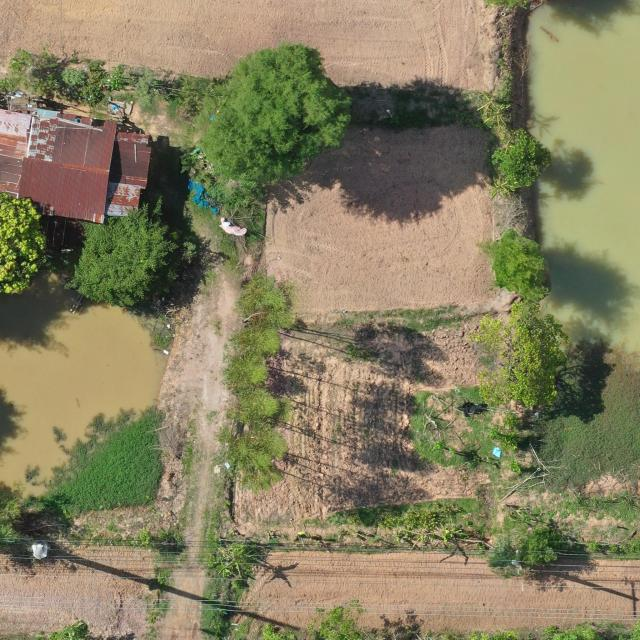Tree: (202, 43, 352, 197), (72, 194, 180, 308), (466, 301, 570, 408), (215, 428, 291, 494), (0, 192, 46, 296), (490, 226, 550, 302), (485, 522, 562, 576), (491, 128, 552, 189), (232, 273, 296, 330), (226, 388, 282, 428), (229, 324, 282, 359), (222, 354, 270, 392), (215, 542, 259, 580)
